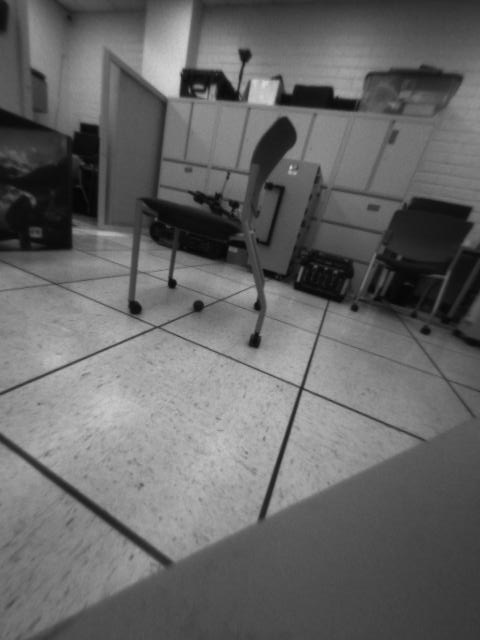dogtoy: (188, 293, 211, 314)
